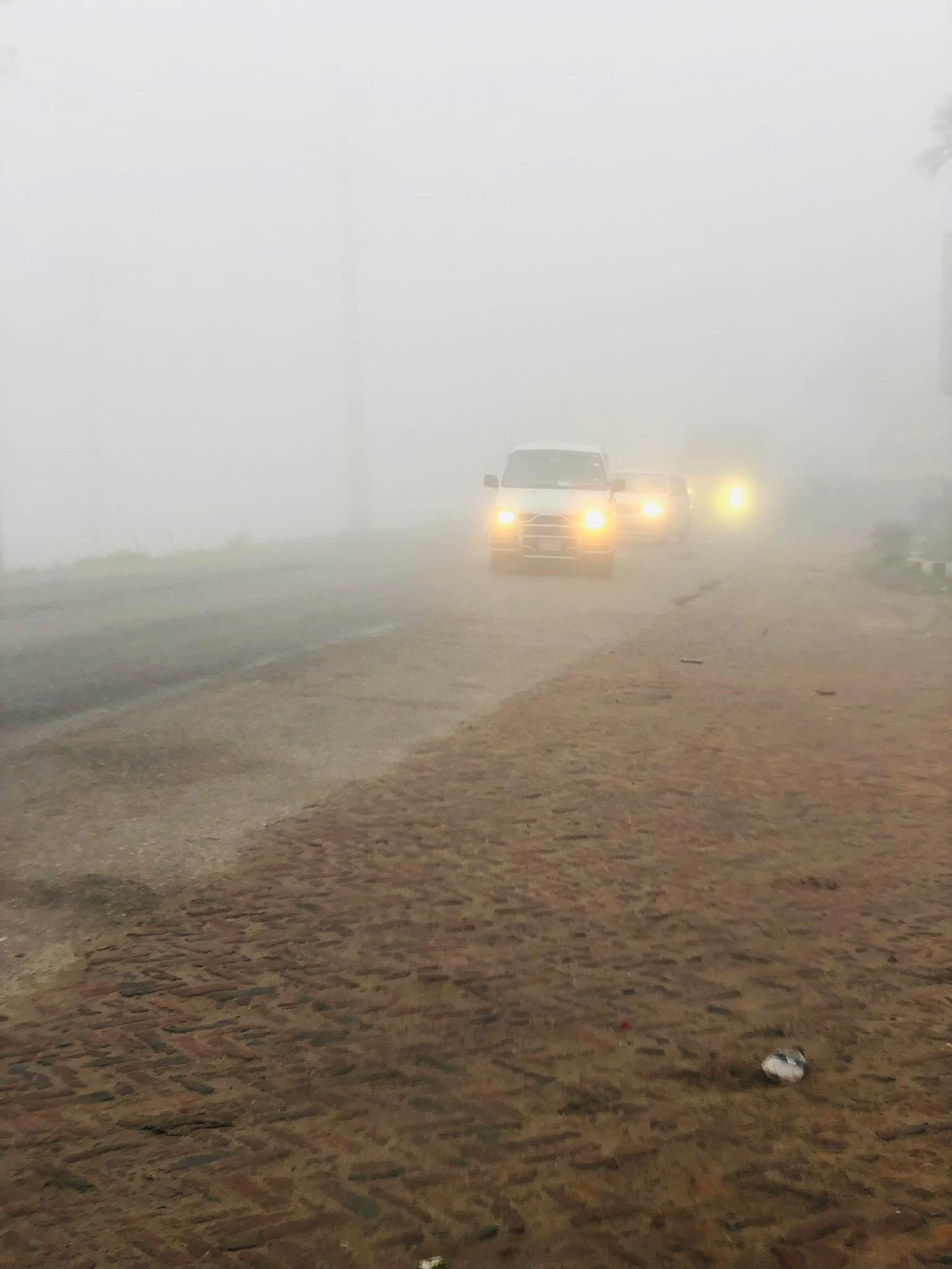Car: (490, 443, 631, 591), (625, 464, 701, 550)
